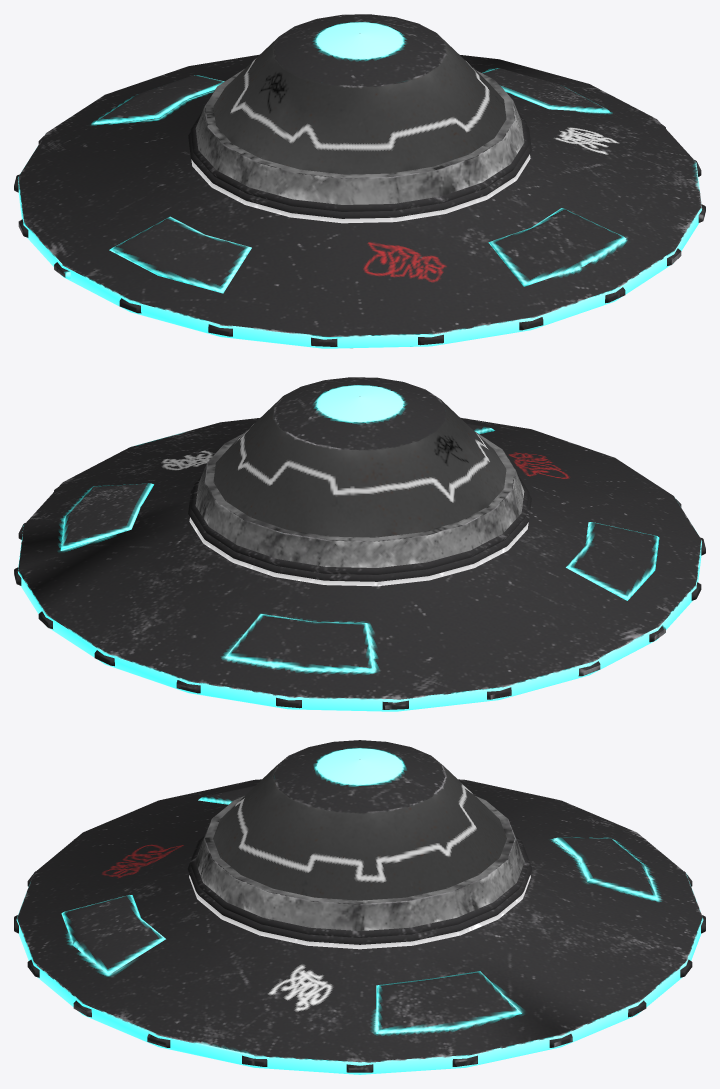
File: ufo_spaceship.glb
The picture shows the model from 3 angles, top to bottom: view 1: azimuth 30°, elevation 25°; view 2: azimuth 150°, elevation 25°; view 3: azimuth 270°, elevation 25°; orthographic projection.
Visible parts, largest first — view 1: Object_2; view 2: Object_2; view 3: Object_2.
Part boxes in pixels (x1=…): Object_2: x1=14, y1=14, x2=705, y2=348; Object_2: x1=14, y1=377, x2=705, y2=711; Object_2: x1=14, y1=740, x2=705, y2=1074.
Size of the model in its own units: 403 by 158 by 403.
Materials: 1 (1 with a texture image).
